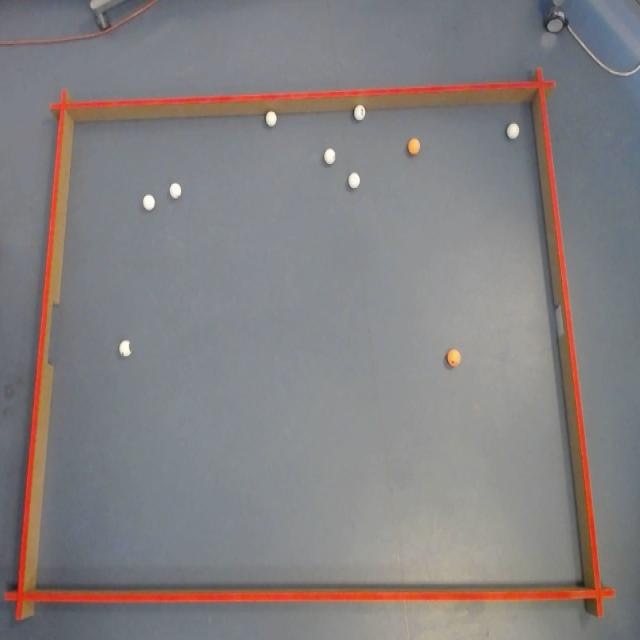orange_ball: (447, 349, 461, 366), (408, 138, 420, 155)
white_ball: (119, 340, 131, 357), (265, 111, 277, 127), (507, 123, 519, 139), (170, 182, 182, 198), (324, 148, 336, 164), (142, 194, 154, 210), (348, 172, 360, 188), (354, 105, 365, 120)
